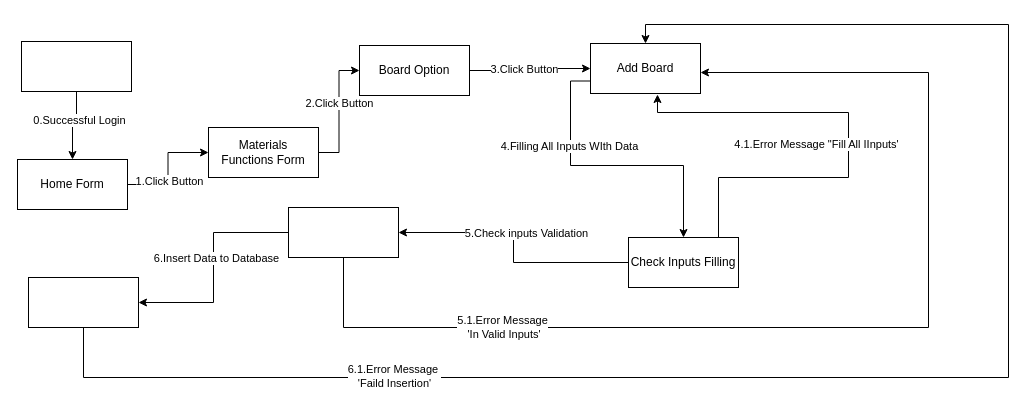
Image size: 1034x406. Some labels were removed from this diagram. The centre of each missing label's shape, as x and y in pixels:
"Check Inputs Validation" goes at (x=343, y=232).
"Insert Data" goes at (x=83, y=302).
"Login to System" goes at (x=76, y=66).
